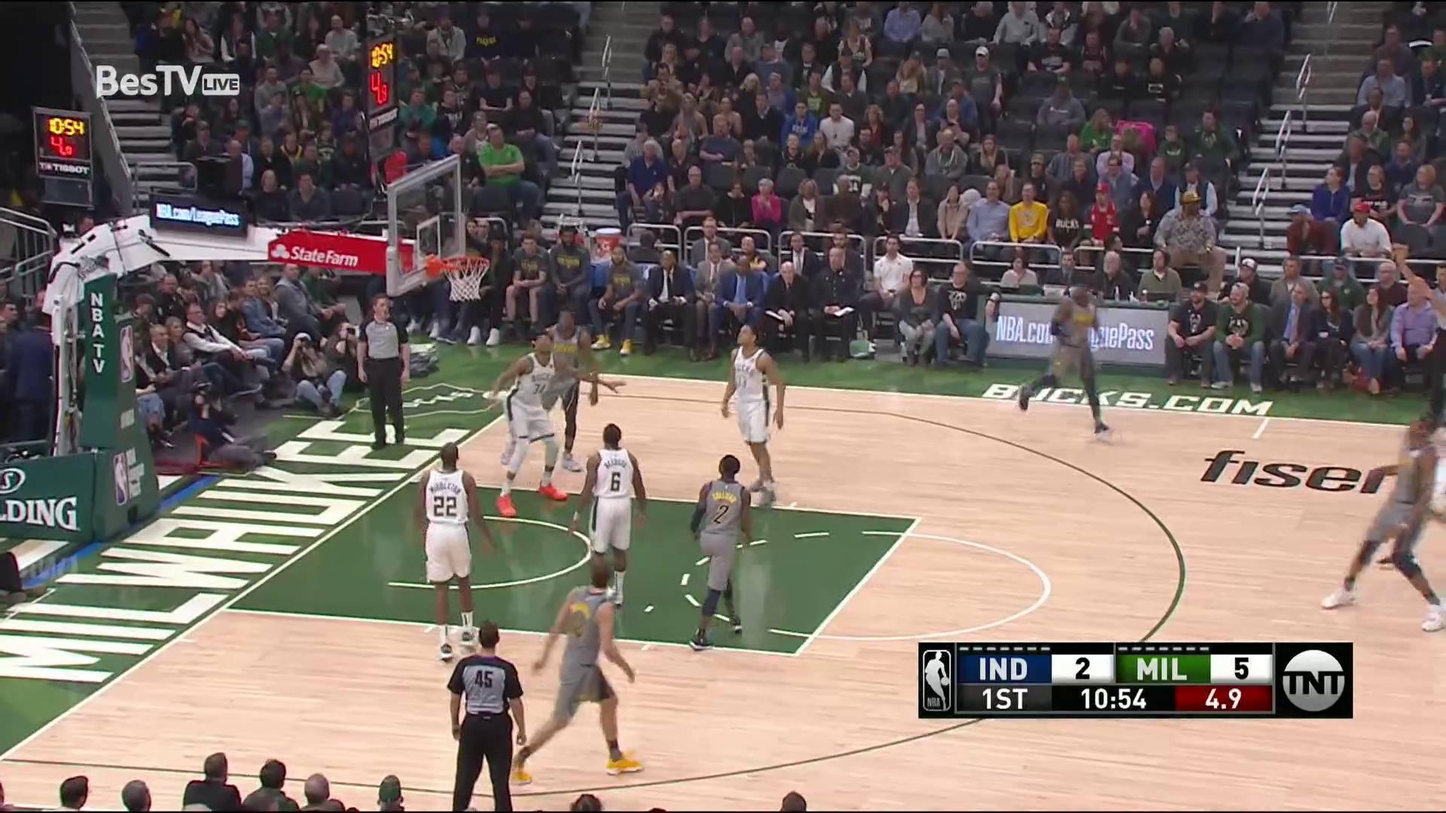basketball: (579, 110, 601, 135)
